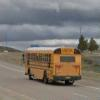Bus: (19, 41, 87, 90)
